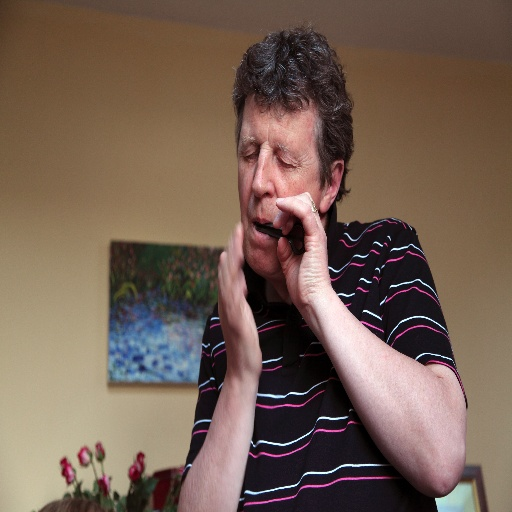hand: (271, 188, 333, 321), (214, 220, 262, 380)
